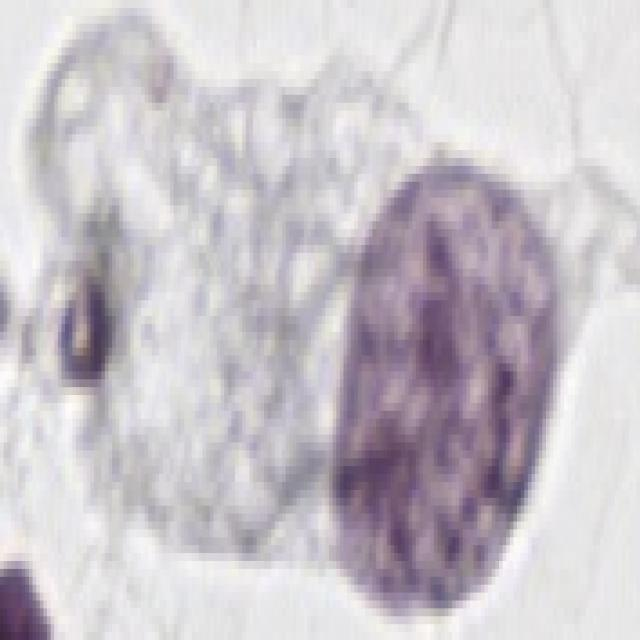nucleus: (270, 145, 608, 628)
